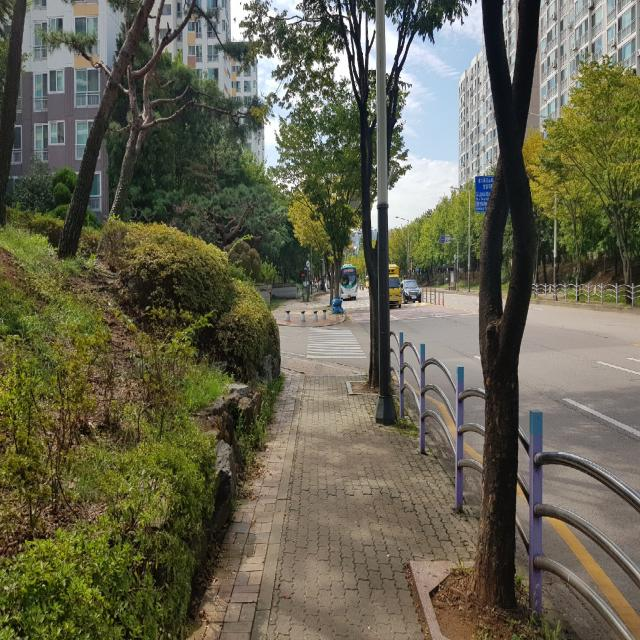횡단보도: (306, 326, 367, 359)
